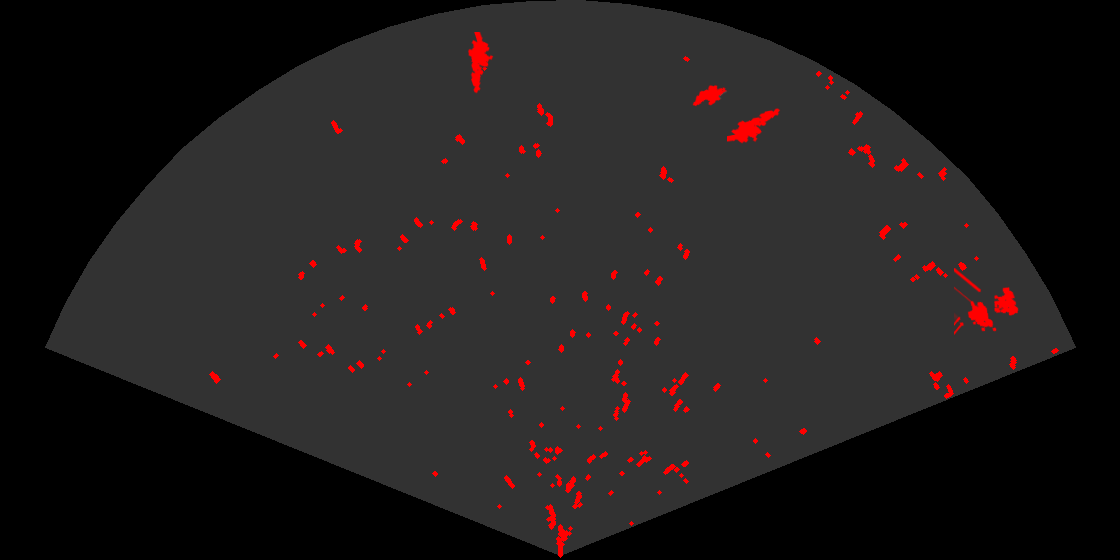AUV: (691, 83, 729, 108)
cage: (954, 268, 1020, 337)
frogman: (727, 107, 782, 145), (466, 32, 495, 94)
